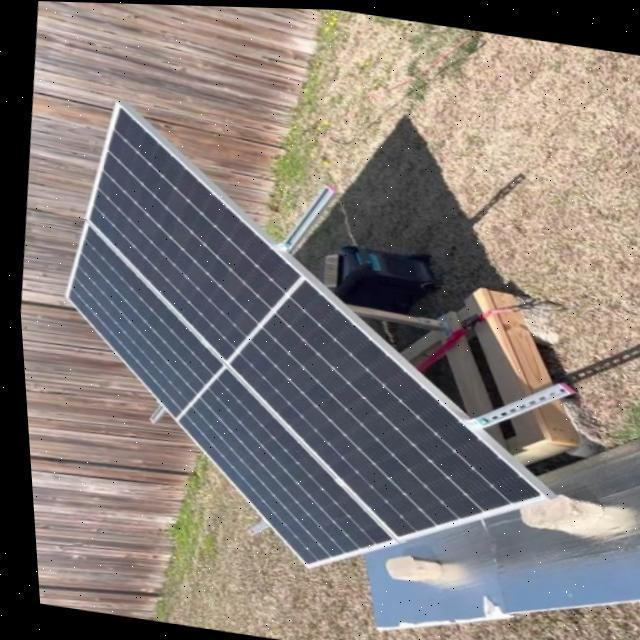Normal Solar Panel: (22, 94, 582, 602)
